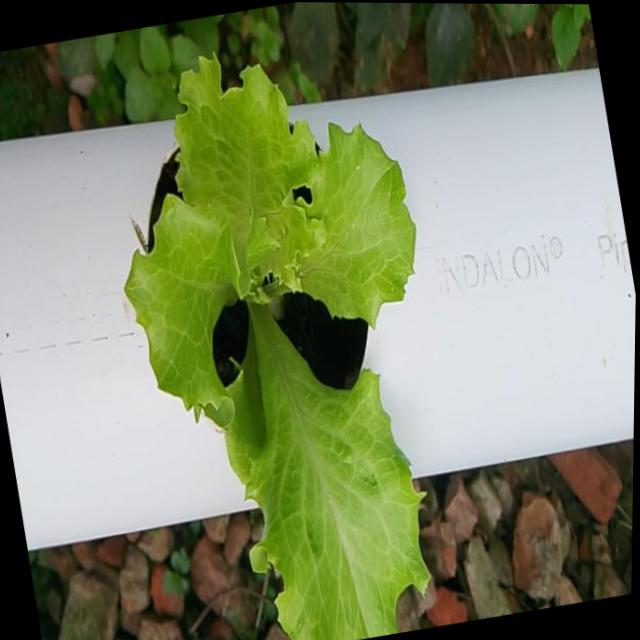Baby: (126, 52, 431, 640)
